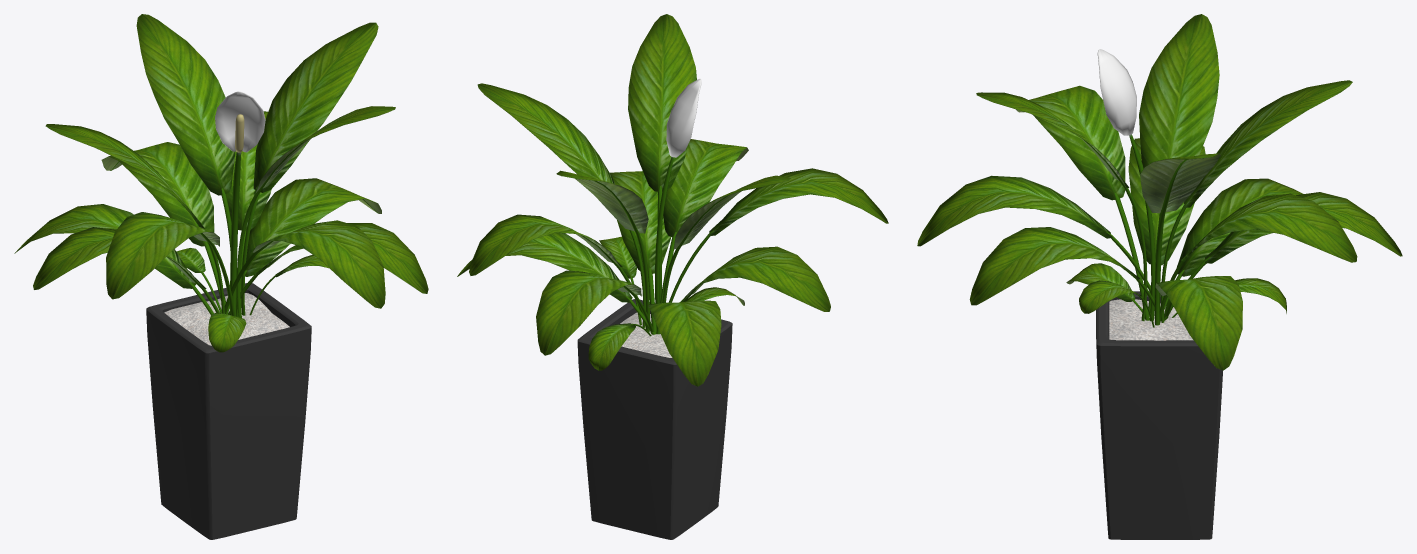
The picture shows the model from 3 angles, left to right: view 1: azimuth 30°, elevation 25°; view 2: azimuth 150°, elevation 25°; view 3: azimuth 270°, elevation 25°; orthographic projection. The views are drawn at different scales.
Parts seen in each view (by area): view 1: low, pot; view 2: low, pot; view 3: low, pot.
Part boxes in pixels (x1,y1,x2,y2): low: (14, 14, 428, 352); pot: (146, 283, 311, 539); low: (457, 14, 888, 386); pot: (577, 299, 732, 539); low: (917, 14, 1402, 370); pot: (1096, 291, 1222, 539).
Size of the model in its own units: 236 by 273 by 260.
2 materials, 2 textured.
